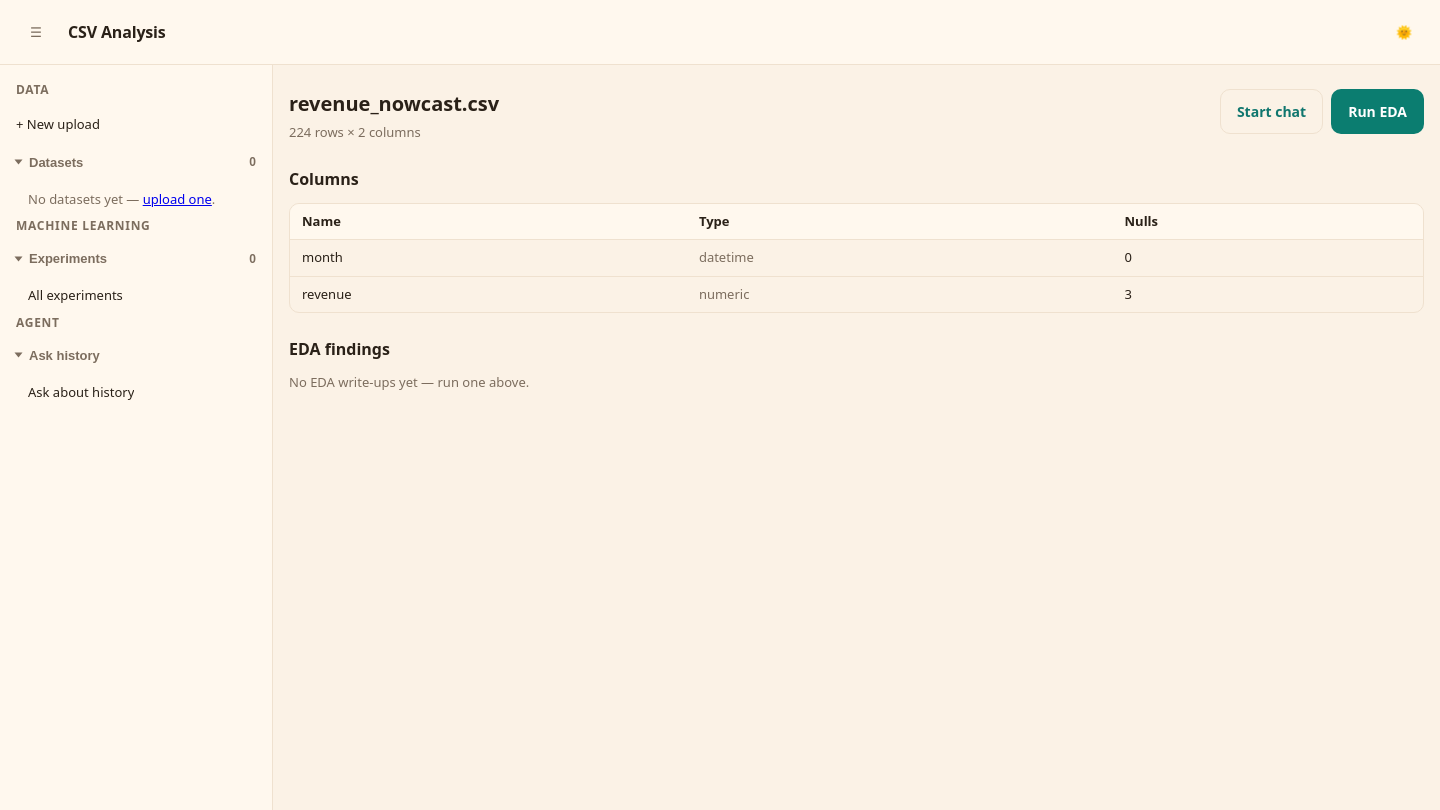
a failed EDA pass is reported rather than swallowed
Step 1. Click the button "Run EDA" → click(1378, 112), box [1331, 89, 1424, 134]
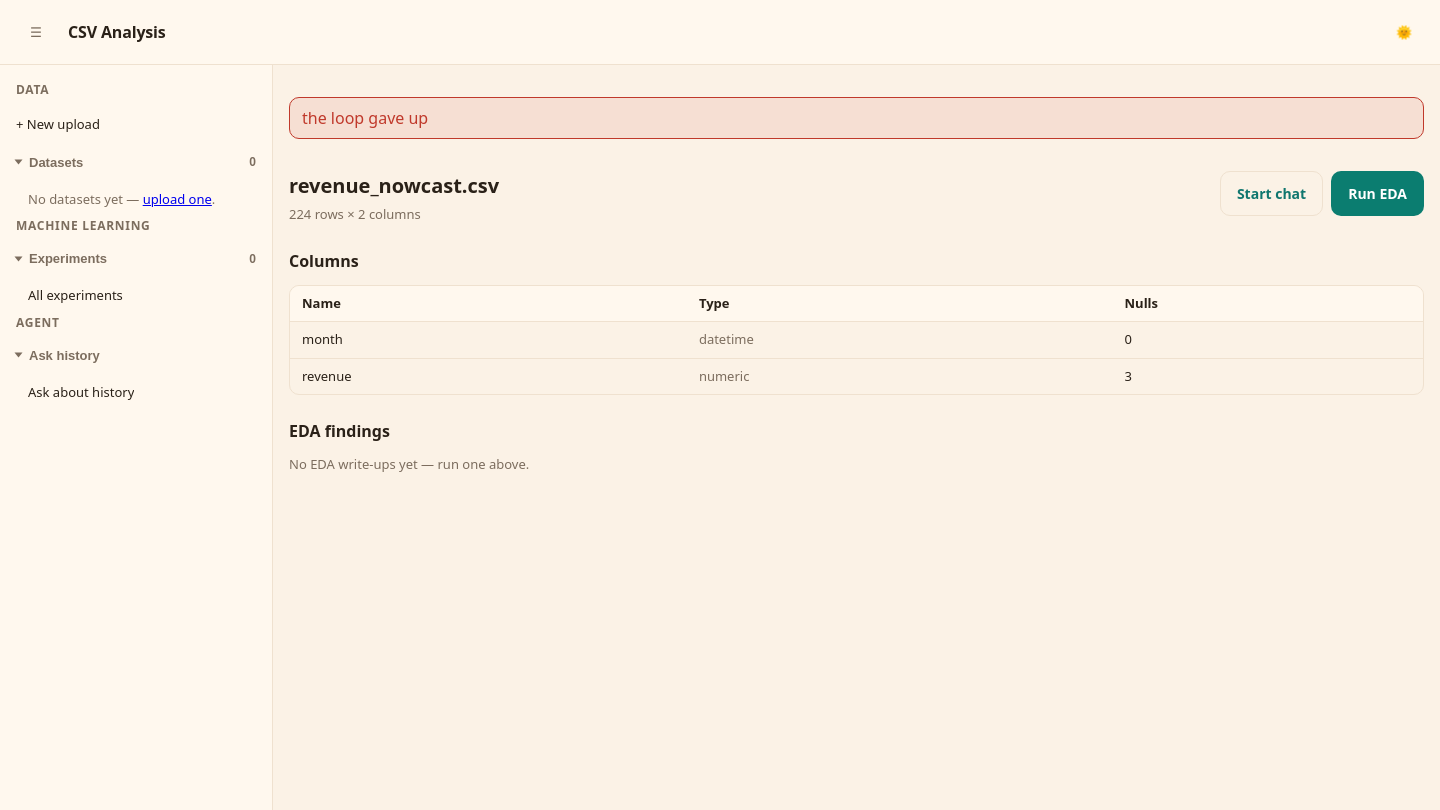
Expected: the message reads "the loop gave up", [302, 107, 428, 129]
